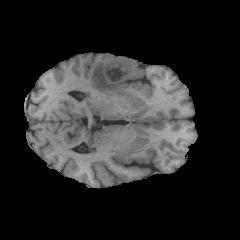glioma: (90, 53, 147, 91)
